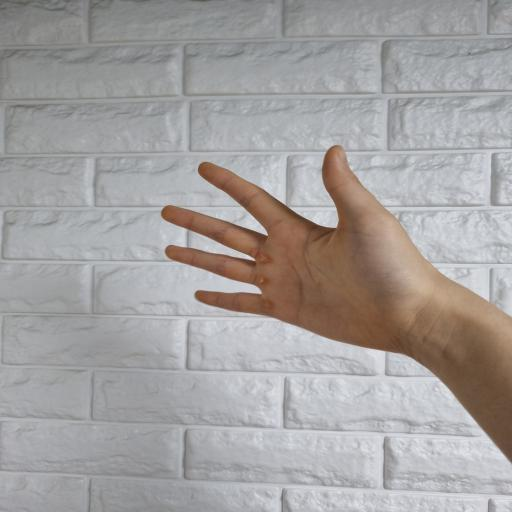Paper: (161, 145, 512, 465)
